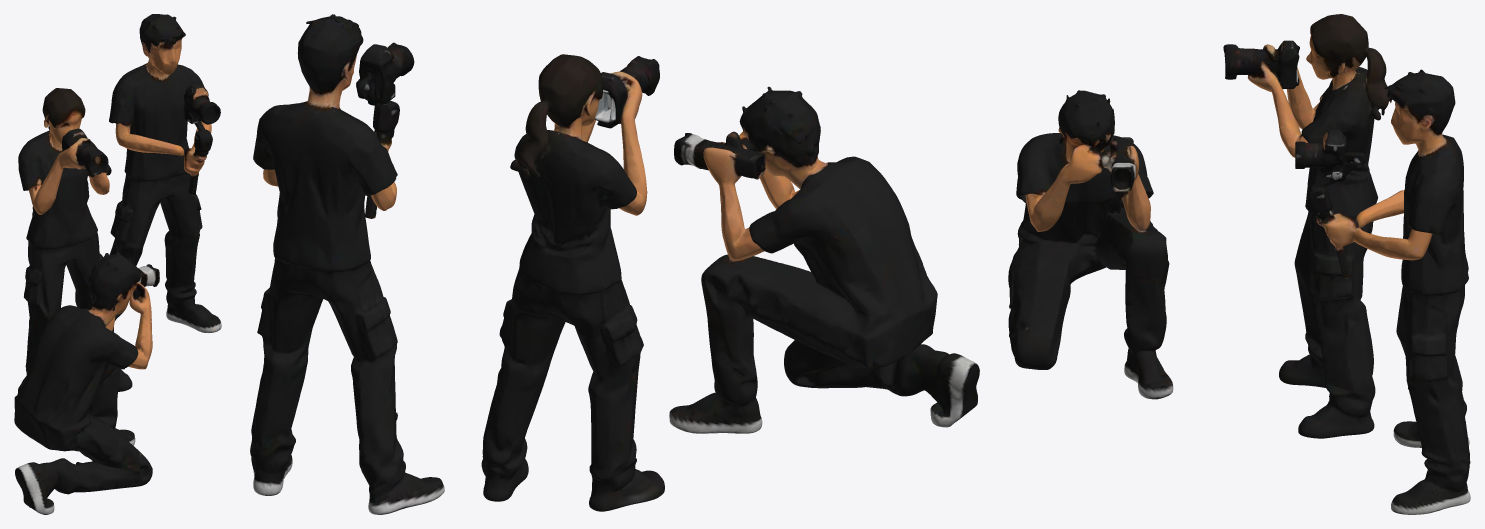
The model's file is crew.glb.
3 renders of one model, left to right at view 1: azimuth 30°, elevation 25°; view 2: azimuth 150°, elevation 25°; view 3: azimuth 270°, elevation 25°, orthographic. The views are drawn at different scales.
Visible parts, largest first — view 1: tripo_node_1c131b8c-253e-4123-8210-185f3c6cad16; view 2: tripo_node_1c131b8c-253e-4123-8210-185f3c6cad16; view 3: tripo_node_1c131b8c-253e-4123-8210-185f3c6cad16.
Boxes of the visible parts, left/top/right/bottom form: tripo_node_1c131b8c-253e-4123-8210-185f3c6cad16: left=14, top=14, right=221, bottom=514; tripo_node_1c131b8c-253e-4123-8210-185f3c6cad16: left=250, top=14, right=979, bottom=514; tripo_node_1c131b8c-253e-4123-8210-185f3c6cad16: left=1008, top=14, right=1470, bottom=514.
Size of the model in its own units: 0.9998 by 0.8961 by 0.907.
Materials: 1 (1 with a texture image).
